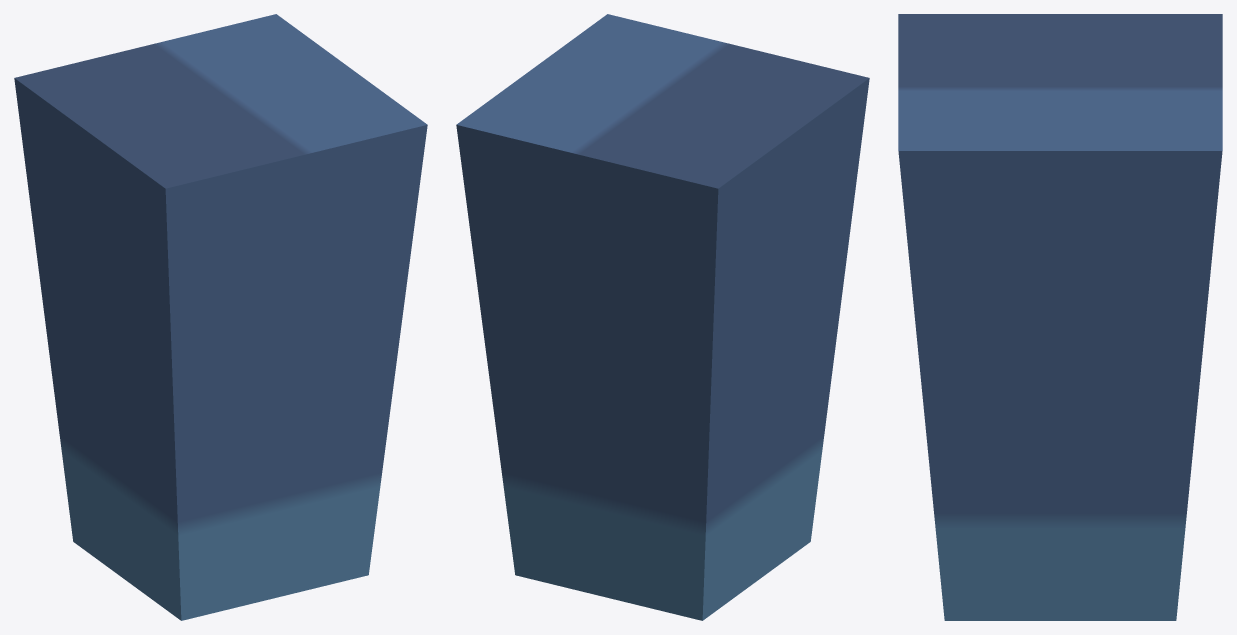
File: BossLv1Cannon.fbx
3 views of the same model, side by side, from view 1: azimuth 30°, elevation 25°; view 2: azimuth 150°, elevation 25°; view 3: azimuth 270°, elevation 25° (orthographic). The views are drawn at different scales.
Visible parts, largest first — view 1: BossLv1Cannon; view 2: BossLv1Cannon; view 3: BossLv1Cannon.
Part boxes in pixels (x1=…): BossLv1Cannon: x1=14, y1=14, x2=427, y2=620; BossLv1Cannon: x1=456, y1=14, x2=869, y2=620; BossLv1Cannon: x1=898, y1=14, x2=1222, y2=620.
Bounding box in the file's own units: 150 × 250 × 150.
